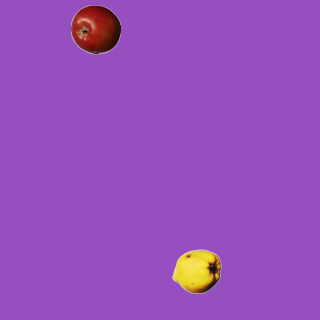Apple Braeburn: (70, 4, 120, 54)
Quince: (171, 246, 221, 296)
